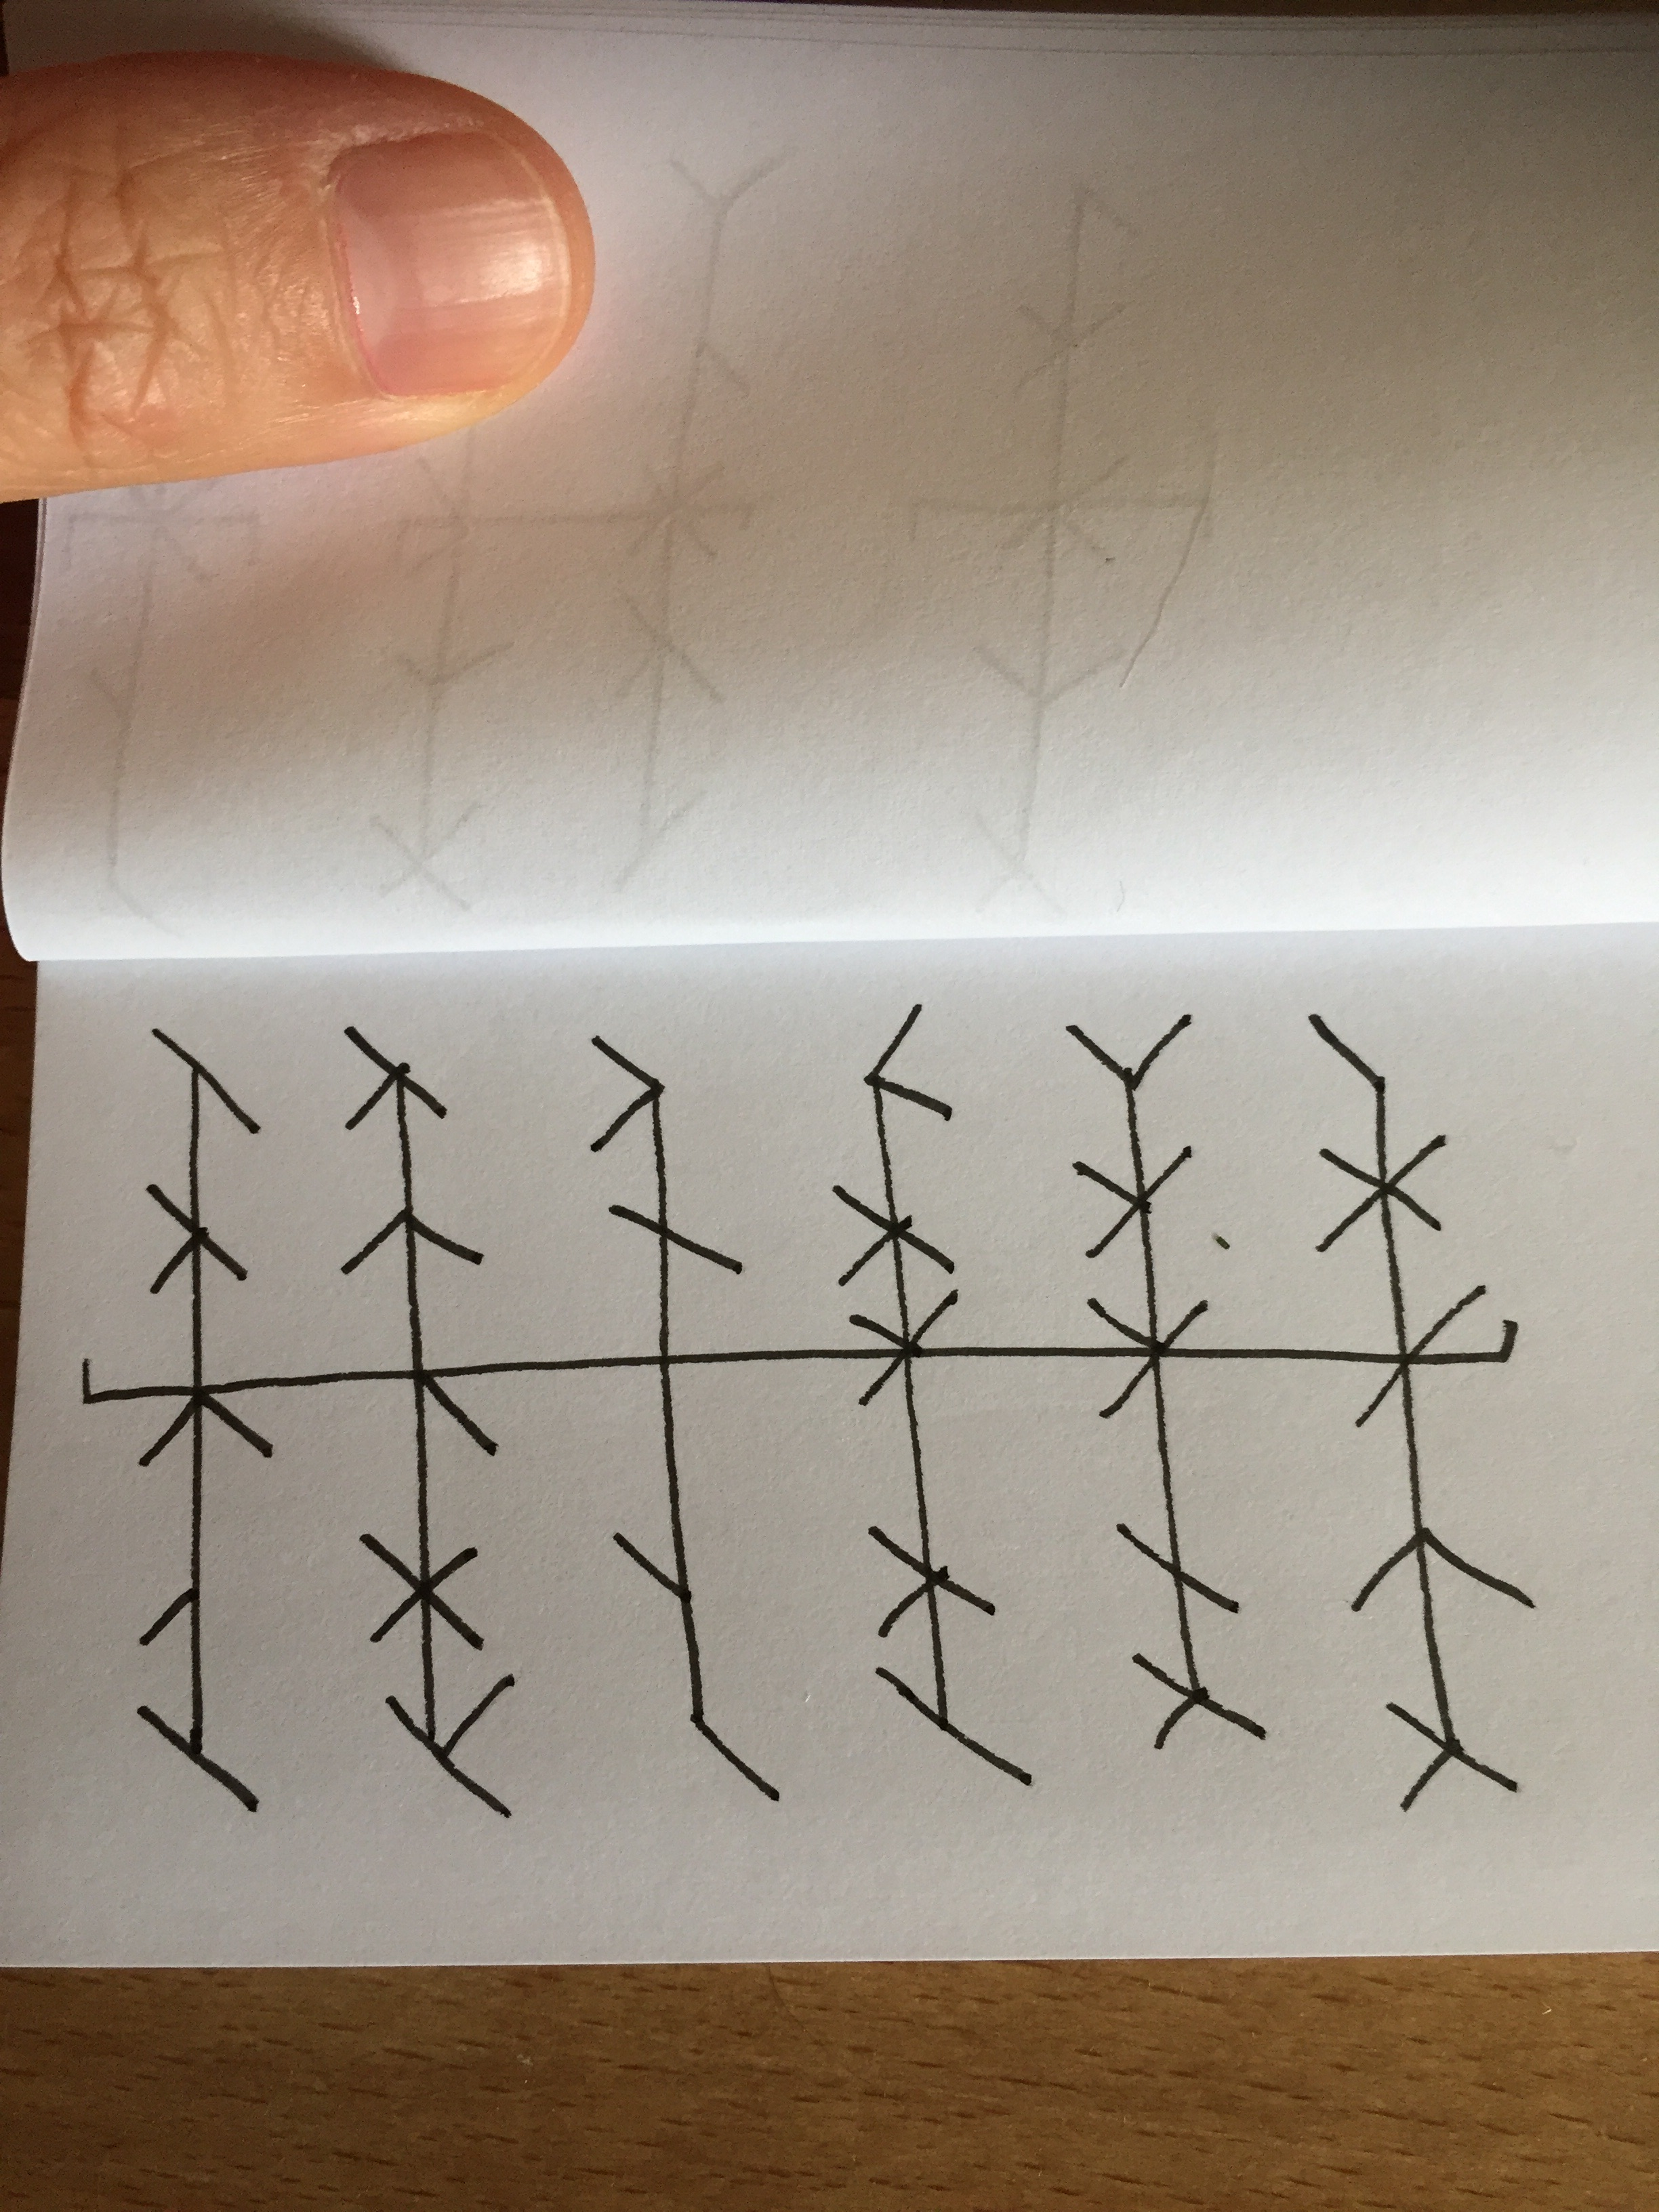Bar: (1307, 1014, 1537, 1811), (831, 1005, 1033, 1789), (1065, 1010, 1265, 1749), (593, 1036, 781, 1803), (342, 1028, 518, 1818), (136, 1026, 274, 1818)
Barcode: (82, 1005, 1537, 1822)
End: (1455, 1318, 1521, 1367)
Start: (82, 1357, 183, 1406)
